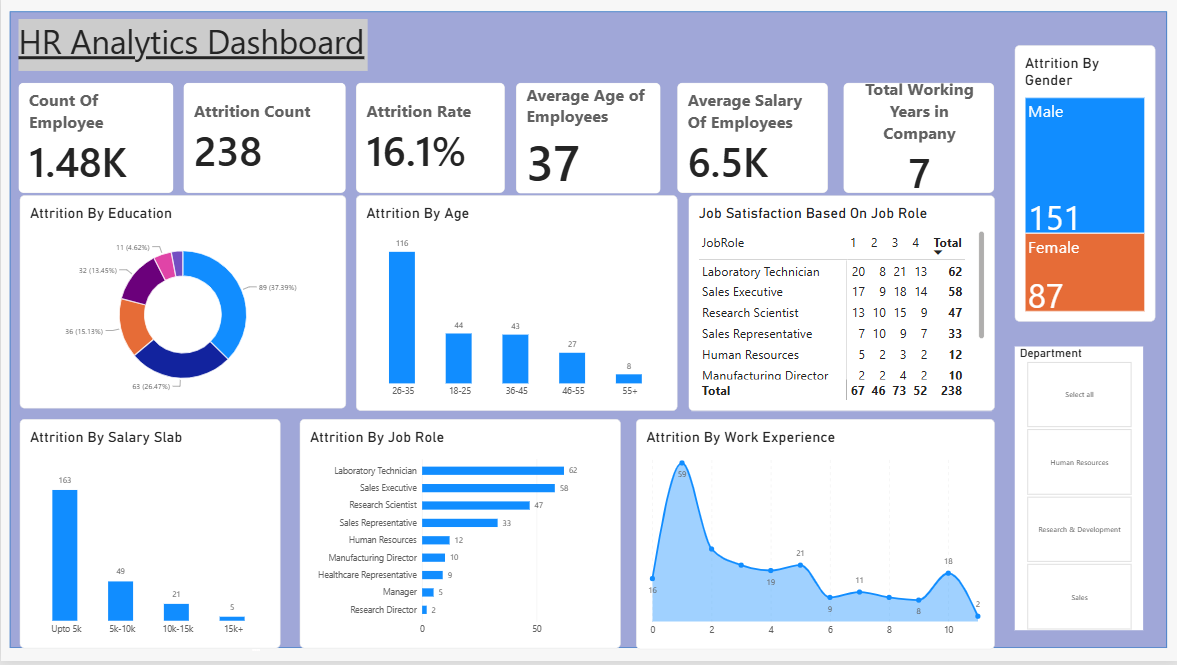

The dashboard page shown, as its layout file describes it:
{"tool":"powerbi","page":{"name":"Page 1","canvas":[1920,1080],"ordinal":0},"visuals":[{"type":"shape","box":[14.4,20.6,1889.5,1039.5],"z":0},{"type":"shape","box":[29,32.6,570,85.1],"z":1000},{"type":"textbox","box":[29,32.6,570,85.1],"z":2000},{"type":"cardVisual","fields":{"Data":["CountNonNull(HR_Analytics.EmpID)"]},"box":[29.3,136.6,253.7,180.5],"z":3000},{"type":"cardVisual","fields":{"Data":["Sum(HR_Analytics.Attrition count)"]},"box":[297.6,136.6,265.9,180.5],"z":4000},{"type":"cardVisual","fields":{"Data":["HR_Analytics.AttritionRate"]},"box":[580.5,136.6,243.9,180.5],"z":5000},{"type":"cardVisual","fields":{"Data":["Avg(HR_Analytics.Age)"]},"box":[839,136.6,236.6,185.4],"z":6000},{"type":"cardVisual","fields":{"Data":["Avg(HR_Analytics.MonthlyIncome)"]},"box":[1104.9,136.6,246.3,180.5],"z":7000},{"type":"cardVisual","fields":{"Data":["Avg(HR_Analytics.YearsAtCompany)"]},"box":[1375.6,136.6,246.3,180.5],"z":8000},{"type":"treemap","title":"Attrition By Gender ","fields":{"Group":["HR_Analytics.Gender"],"Values":["Sum(HR_Analytics.Attrition count)"]},"box":[1656.1,75.6,229.3,451.2],"z":8001},{"type":"donutChart","title":"Attrition By Education ","fields":{"Category":["HR_Analytics.EducationField"],"Y":["Sum(HR_Analytics.Attrition count)"]},"box":[29.9,316.4,425.5,352.8],"z":8002},{"type":"clusteredColumnChart","fields":{"Y":["Sum(HR_Analytics.Attrition count)"],"Category":["HR_Analytics.AgeGroup"]},"box":[487.5,316.4,523.8,352.8],"z":8003},{"type":"pivotTable","title":"Job Satisfaction Based On Job Role","fields":{"Rows":["HR_Analytics.JobRole"],"Columns":["HR_Analytics.JobSatisfaction"],"Values":["Sum(HR_Analytics.Attrition count)"]},"box":[1037,316.4,585.8,352.8],"z":8004},{"type":"lineStackedColumnComboChart","title":"Attrition By Salary Slab ","fields":{"Category":["HR_Analytics.SalarySlab"],"Y":["Sum(HR_Analytics.Attrition count)"]},"box":[29.9,686.3,425.5,374.2],"z":8005},{"type":"clusteredBarChart","title":"Attrition By Job Role","fields":{"Category":["HR_Analytics.JobRole"],"Y":["Sum(HR_Analytics.Attrition count)"]},"box":[487.5,686.3,523.8,374.2],"z":8006},{"type":"areaChart","title":"Attrition By Work Experience","fields":{"Category":["HR_Analytics.YearsAtCompany"],"Y":["Sum(HR_Analytics.Attrition count)"]},"box":[1036.6,685.4,585.4,375.6],"z":8007},{"type":"slicer","fields":{"Values":["HR_Analytics.Department"]},"box":[1656.1,568.3,209.8,463.4],"z":8008}]}

Visuals, with their boxes in screenshot pixels (x1, y1, x2, y2), scaled from the page's 1920x1080 canvas onto the 1177x665 screenshot:
shape: bbox=[9, 13, 1167, 653]
shape: bbox=[18, 20, 367, 72]
textbox: bbox=[18, 20, 367, 72]
cardVisual - CountNonNull(HR_Analytics.EmpID): bbox=[18, 84, 173, 195]
cardVisual - Sum(HR_Analytics.Attrition count): bbox=[182, 84, 345, 195]
cardVisual - HR_Analytics.AttritionRate: bbox=[356, 84, 505, 195]
cardVisual - Avg(HR_Analytics.Age): bbox=[514, 84, 659, 198]
cardVisual - Avg(HR_Analytics.MonthlyIncome): bbox=[677, 84, 828, 195]
cardVisual - Avg(HR_Analytics.YearsAtCompany): bbox=[843, 84, 994, 195]
"Attrition By Gender " treemap: bbox=[1015, 47, 1156, 324]
"Attrition By Education " donutChart: bbox=[18, 195, 279, 412]
clusteredColumnChart - Sum(HR_Analytics.Attrition count) x HR_Analytics.AgeGroup: bbox=[299, 195, 620, 412]
"Job Satisfaction Based On Job Role" pivotTable: bbox=[636, 195, 995, 412]
"Attrition By Salary Slab " lineStackedColumnComboChart: bbox=[18, 423, 279, 653]
"Attrition By Job Role" clusteredBarChart: bbox=[299, 423, 620, 653]
"Attrition By Work Experience" areaChart: bbox=[635, 422, 994, 653]
slicer - HR_Analytics.Department: bbox=[1015, 350, 1144, 635]
